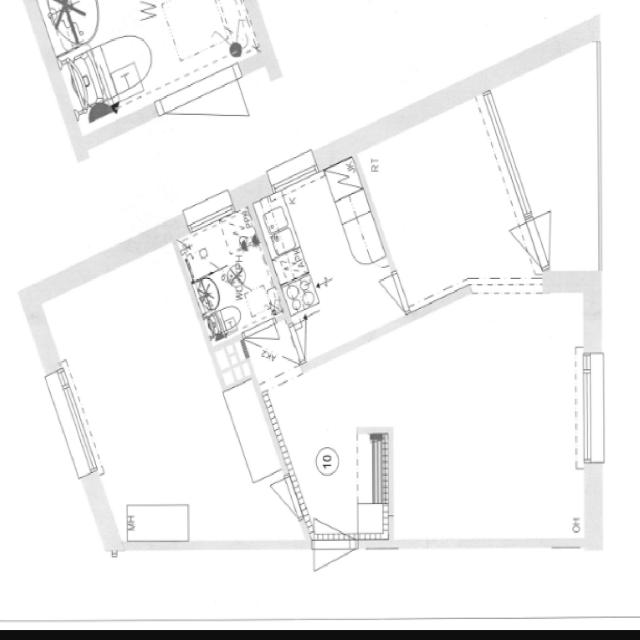door: (482, 219, 548, 290), (522, 201, 588, 271), (254, 476, 307, 534), (364, 270, 409, 322), (317, 534, 355, 592), (317, 489, 355, 547), (289, 310, 333, 358), (246, 317, 284, 367)
